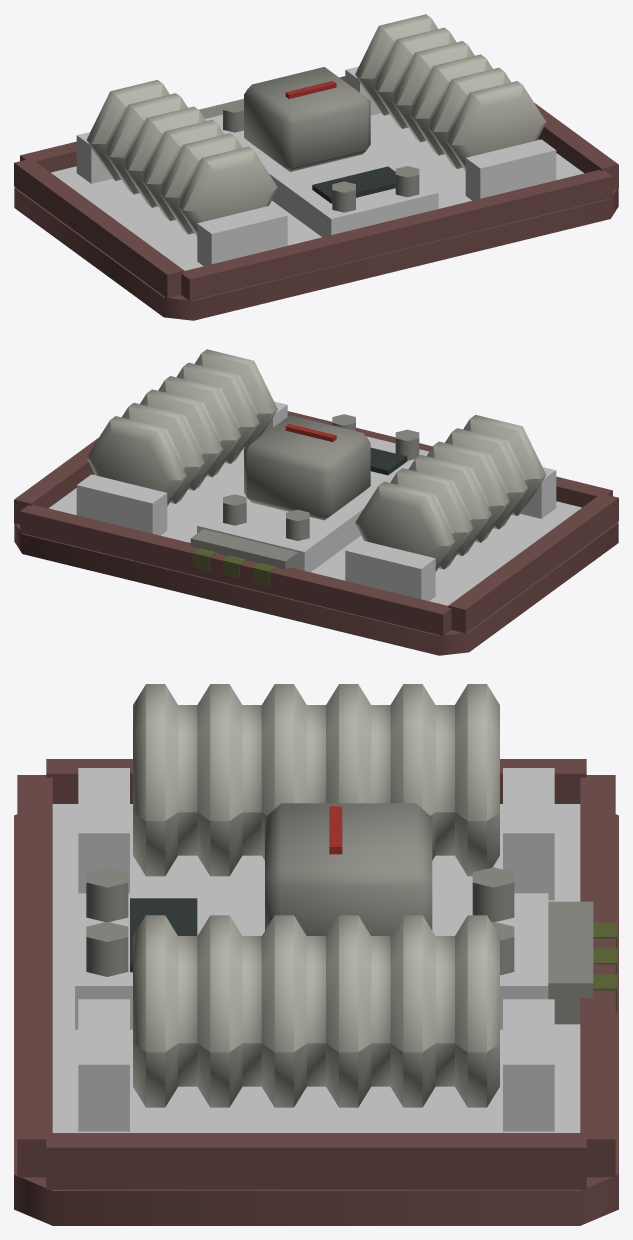
File: standard_recharger.obj
The picture shows the model from 3 angles, top to bottom: view 1: azimuth 30°, elevation 25°; view 2: azimuth 150°, elevation 25°; view 3: azimuth 270°, elevation 25°; orthographic projection. The views are drawn at different scales.
Visible parts, largest first — view 1: source_component_006, source_component_009, source_component_002, source_component_000, source_component_013, source_component_001, source_component_012, source_component_004, source_component_010, source_component_007, source_component_005, source_component_015 (+6 smaller); view 2: source_component_006, source_component_009, source_component_000, source_component_003, source_component_013, source_component_001, source_component_004, source_component_012, source_component_011, source_component_008, source_component_005, source_component_020 (+6 smaller); view 3: source_component_009, source_component_006, source_component_001, source_component_005, source_component_000, source_component_013, source_component_002, source_component_003, source_component_012, source_component_010, source_component_011, source_component_008 (+8 smaller).
Part boxes in pixels (x1,y1,x2,y2): source_component_006: (86,80,277,236); source_component_009: (355,14,546,170); source_component_002: (181,169,612,300); source_component_000: (14,187,618,320); source_component_013: (244,67,370,171); source_component_001: (51,113,583,270); source_component_012: (205,114,438,237); source_component_004: (14,158,184,298); source_component_010: (465,139,556,200); source_component_007: (197,205,287,265); source_component_005: (534,103,618,189); source_component_015: (312,166,395,203); source_component_006: (355,415,546,571); source_component_009: (86,349,277,505); source_component_000: (14,522,618,655); source_component_003: (20,504,451,635); source_component_013: (244,415,370,520); source_component_001: (49,449,581,605); source_component_004: (448,493,618,633); source_component_012: (197,436,428,572); source_component_011: (76,474,167,535); source_component_008: (345,540,435,600); source_component_005: (14,438,98,524); source_component_020: (190,529,298,569); source_component_009: (133,915,499,1107); source_component_006: (133,684,499,876); source_component_001: (52,804,580,1132); source_component_005: (46,1133,586,1189); source_component_000: (14,814,618,1225); source_component_013: (265,803,432,935); source_component_002: (17,775,52,1177); source_component_003: (580,775,615,1177); source_component_012: (75,893,548,1029); source_component_010: (78,999,129,1131); source_component_011: (503,999,554,1131); source_component_008: (503,768,554,900).
Bounding box in the file's own units: 2.88 × 0.7198 × 1.88.
